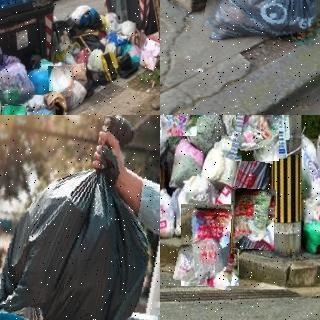Garbage: (0, 115, 160, 320), (177, 202, 243, 289), (205, 0, 320, 42), (227, 137, 272, 203), (174, 176, 216, 242), (230, 189, 275, 250), (232, 115, 281, 162), (200, 132, 239, 188), (170, 136, 205, 191), (0, 54, 34, 104), (300, 180, 320, 253), (160, 182, 175, 238), (217, 115, 256, 135), (47, 65, 74, 93), (160, 115, 196, 136), (27, 69, 53, 95), (160, 115, 171, 167), (84, 47, 103, 71), (1, 105, 27, 115)
